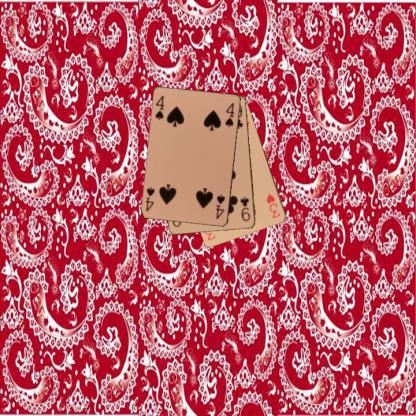3h: (264, 191, 281, 220)
4s: (152, 93, 166, 121), (213, 193, 227, 220)
9c: (237, 194, 252, 223)
